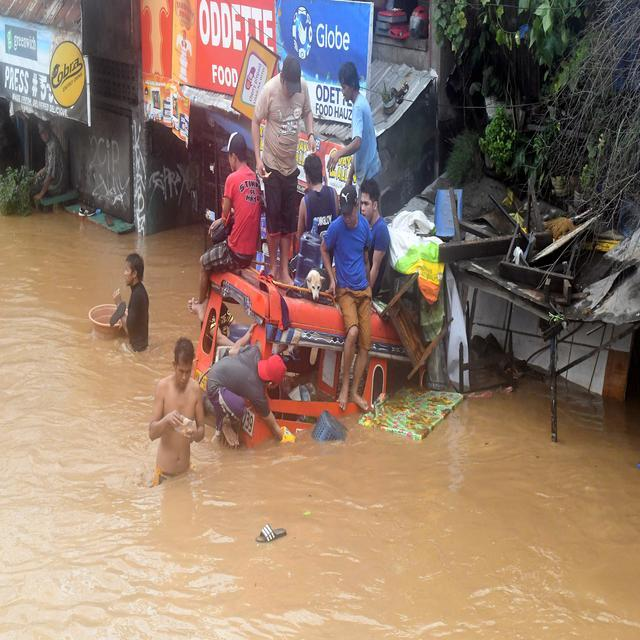Person-RiskLevel3: (212, 50, 414, 413), (153, 328, 222, 510), (208, 340, 294, 455), (94, 250, 167, 355)
